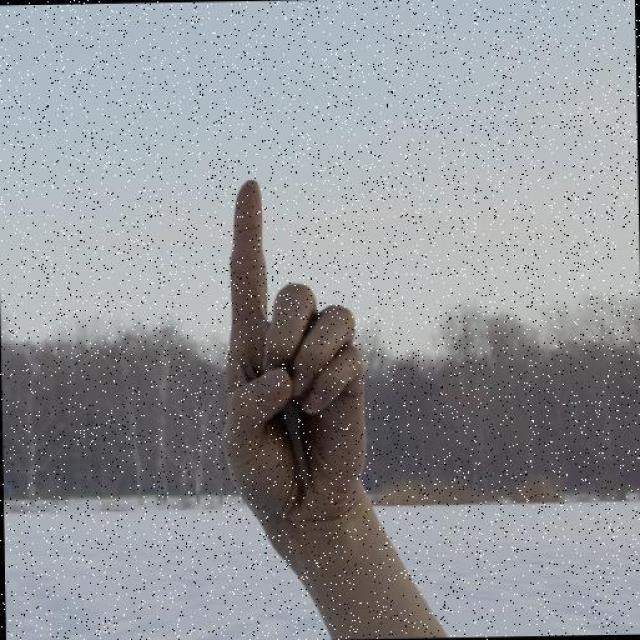D: (216, 173, 375, 532)
